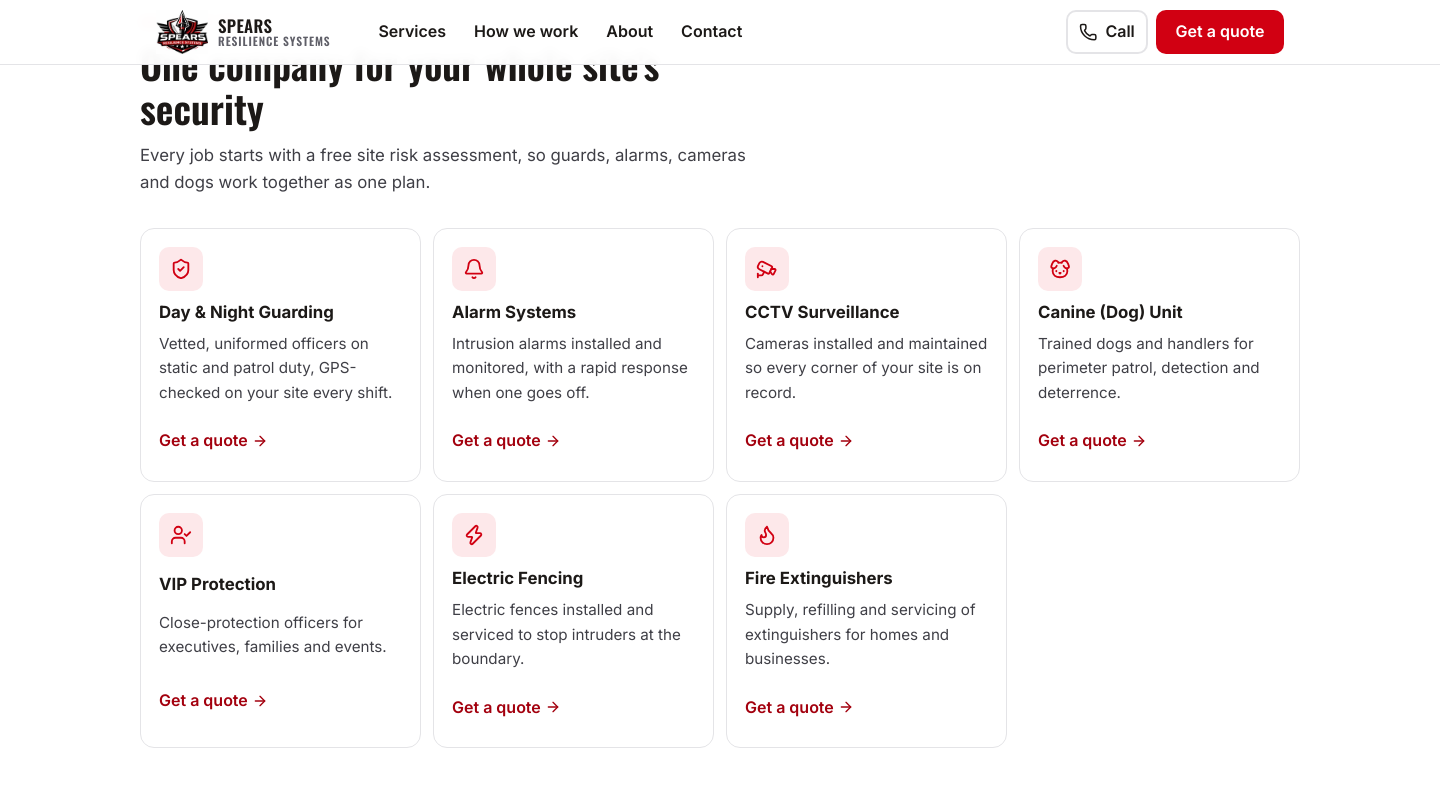
it: a service's Get a quote pre-selects that service in the form
(page scrolled)
Step 1. Click the link named "get a quote for cctv surveillance" → (831, 446), box [745,430,916,463]
(page scrolled)
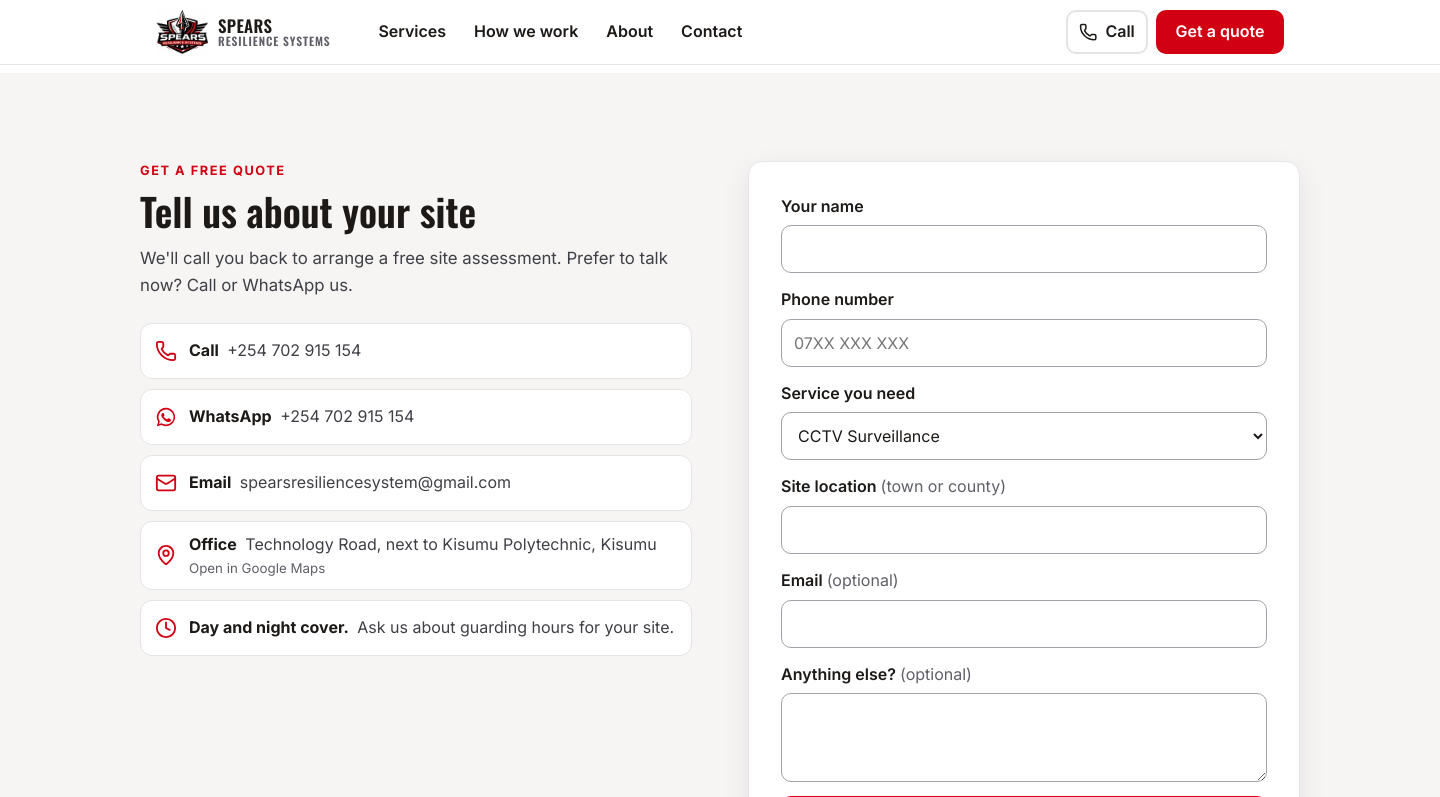
Check: the dropdown labelled "Service you need" shows "CCTV Surveillance", box [781,412,1267,460]
